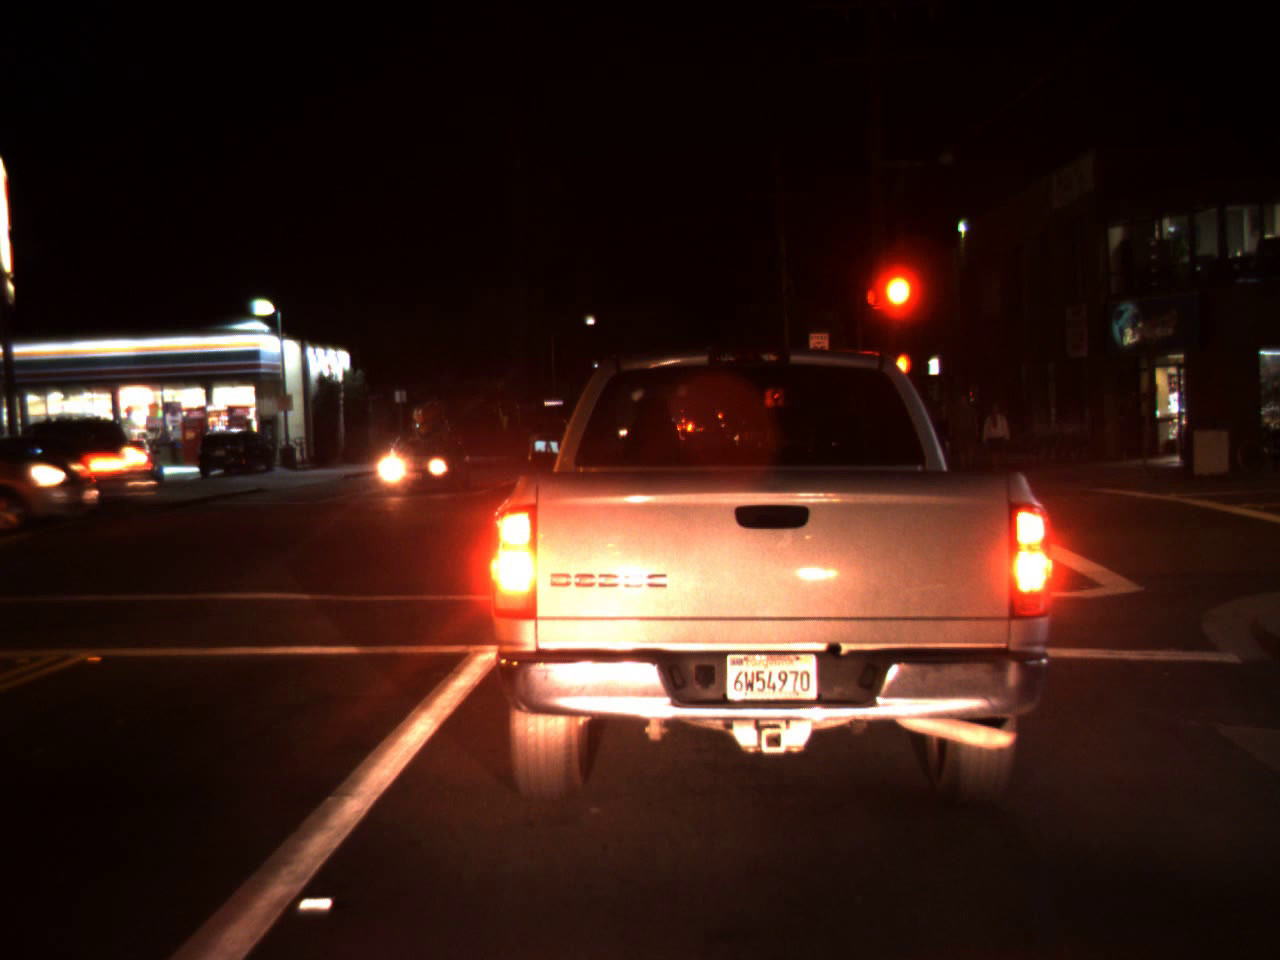stop: (877, 270, 914, 345)
